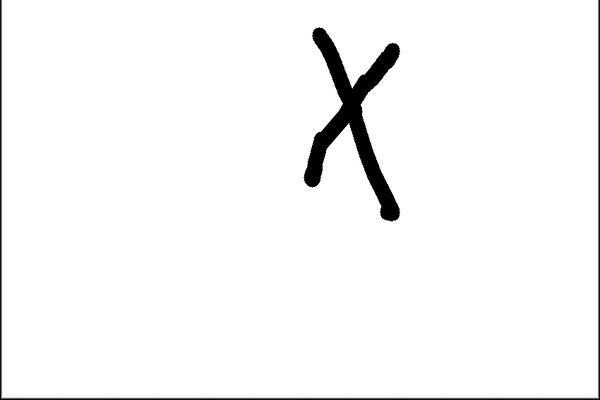X: (279, 16, 435, 234)
